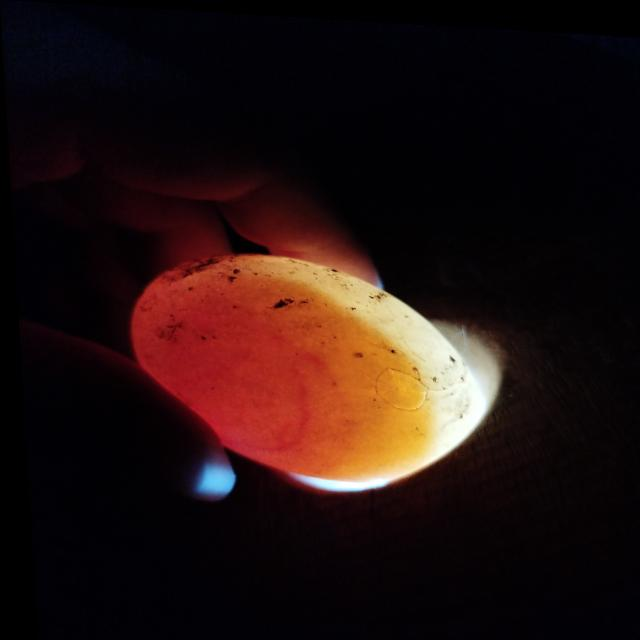Rachadura: (371, 363, 426, 405)
